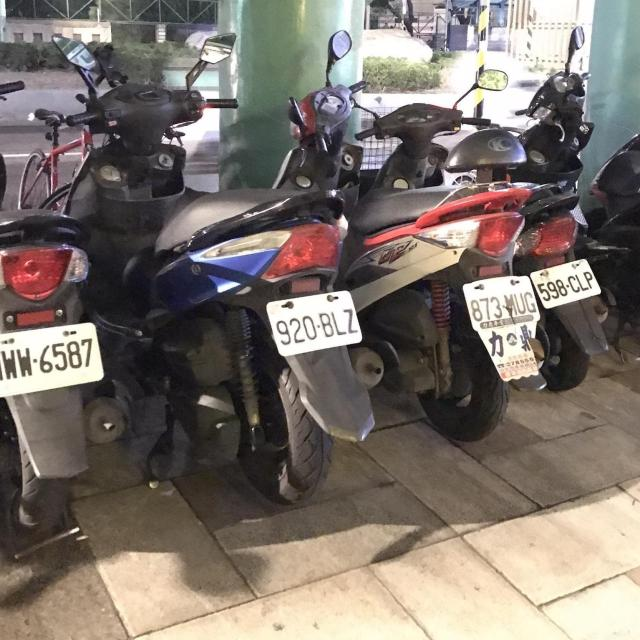W: (0, 320, 105, 400), (263, 284, 370, 359), (458, 271, 539, 329), (529, 253, 603, 312)
